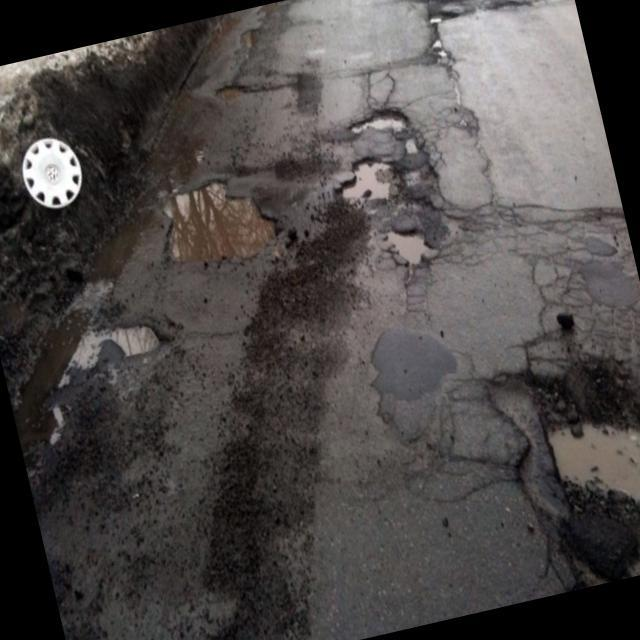Pothole: (471, 281, 640, 589), (0, 267, 201, 472), (140, 145, 294, 319), (328, 146, 442, 235), (425, 91, 499, 154), (372, 218, 453, 274), (342, 94, 421, 150), (416, 28, 474, 96), (398, 125, 436, 160), (421, 12, 460, 32)
